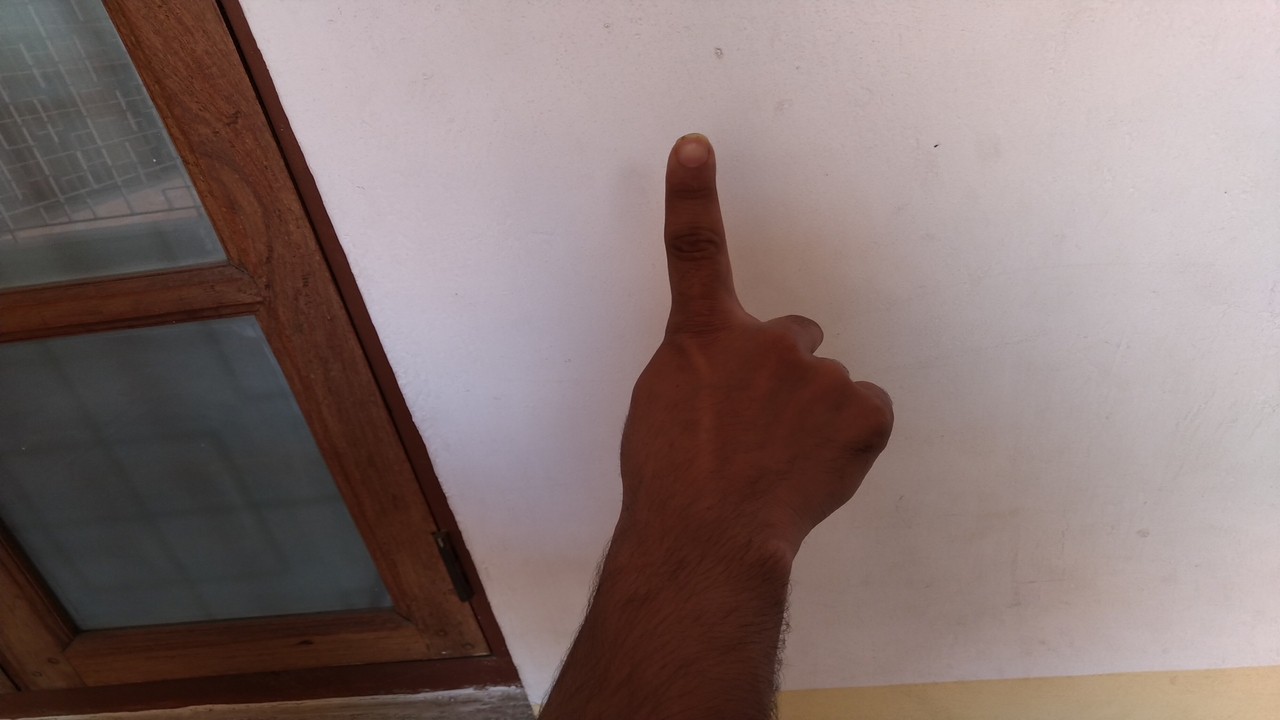fingertip: (666, 128, 722, 180)
